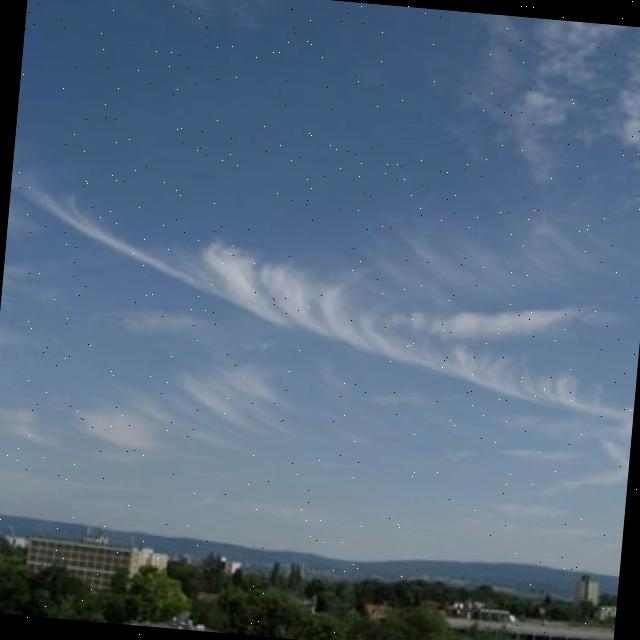Ci: (9, 158, 640, 441)
